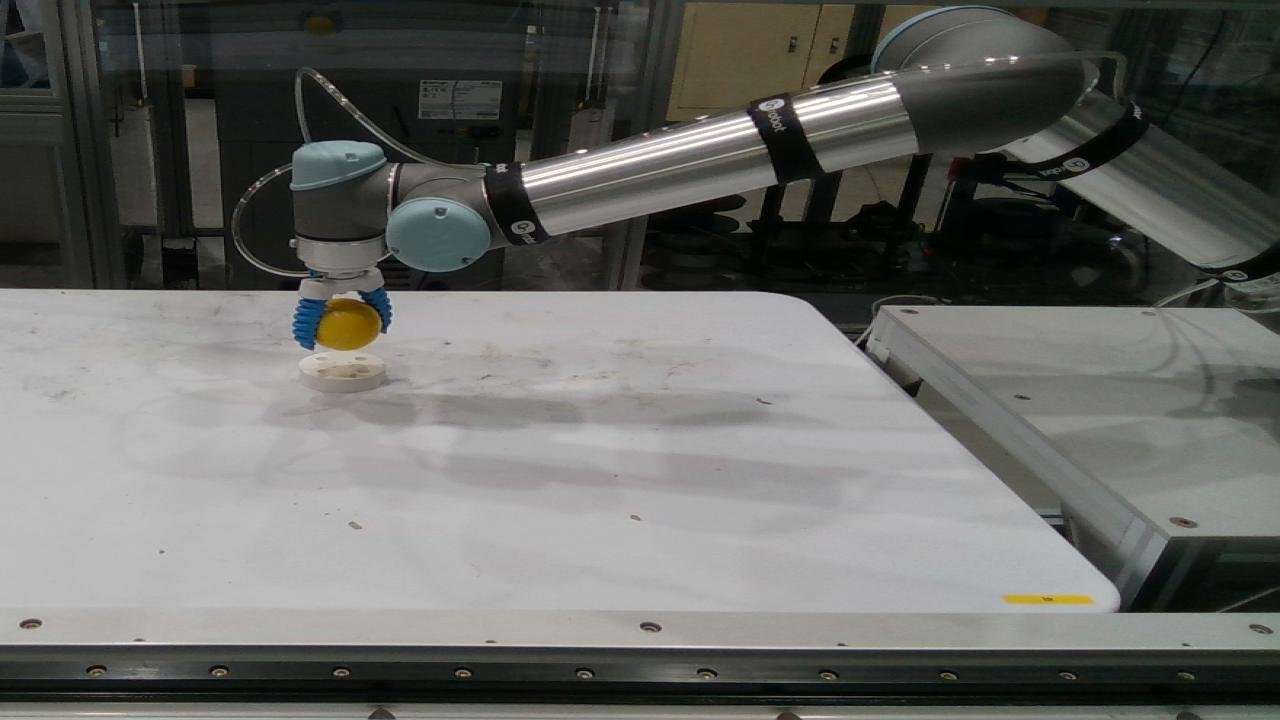UR5: (284, 4, 1278, 323)
gripper_left: (359, 286, 391, 332)
gripper_right: (294, 298, 322, 349)
target: (300, 351, 385, 392), (316, 299, 380, 350)
